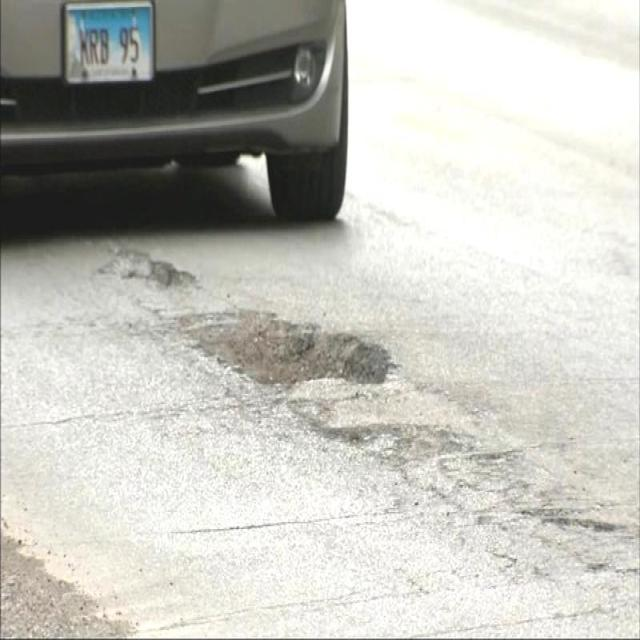pothole: (183, 318, 401, 406)
